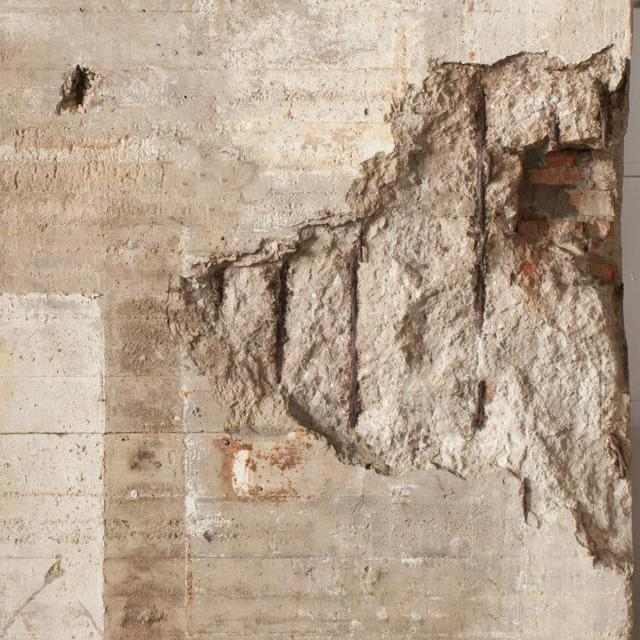Rebar: (186, 35, 635, 583)
concrete spalling: (52, 64, 99, 114)
